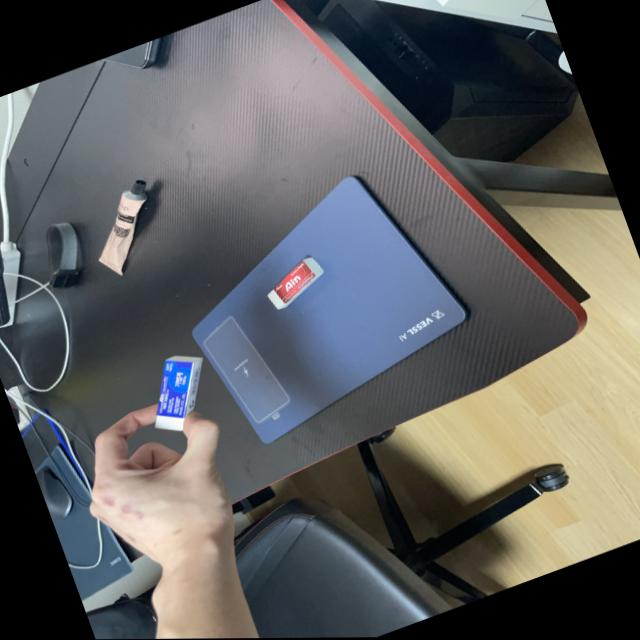blue: (126, 339, 232, 445)
red: (251, 246, 338, 318)
